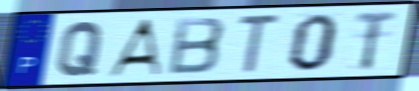0: (288, 11, 341, 73)
A: (104, 16, 163, 77)
B: (166, 15, 228, 77)
Q: (54, 20, 106, 79)
T: (236, 13, 283, 76), (353, 9, 399, 73)
